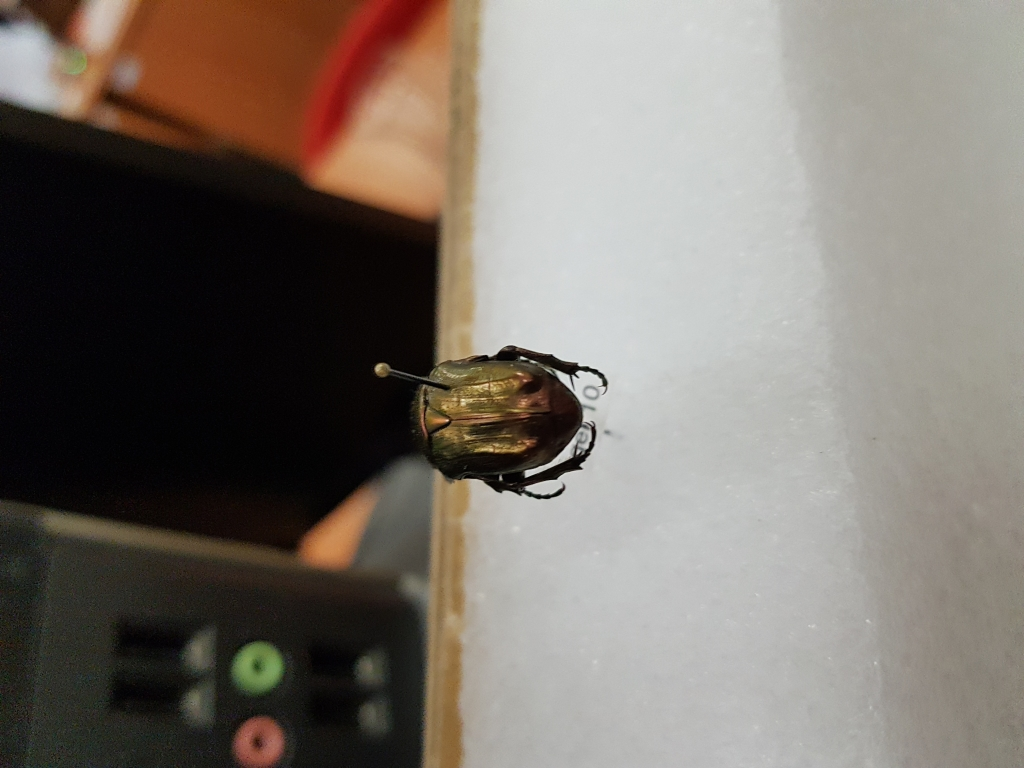Cetonia_aurata: (402, 347, 613, 505)
